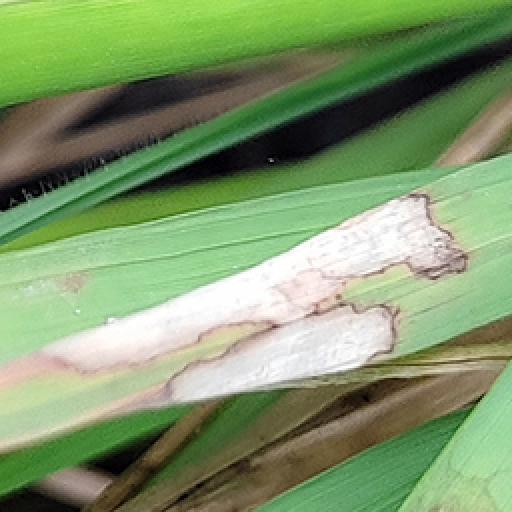Leaf Blast Disease: (6, 188, 476, 420)
